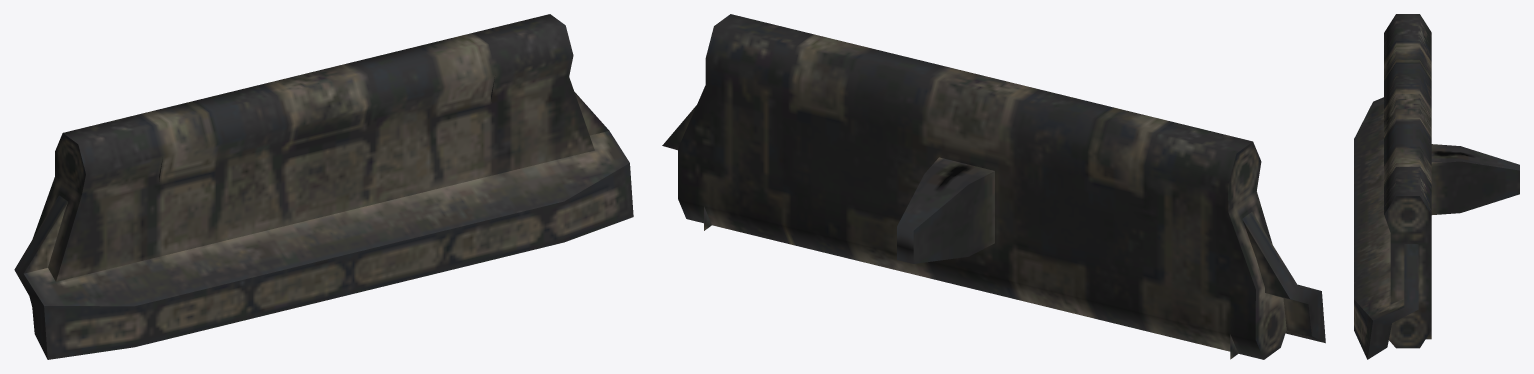
The picture shows the model from 3 angles, left to right: view 1: azimuth 30°, elevation 25°; view 2: azimuth 150°, elevation 25°; view 3: azimuth 270°, elevation 25°; orthographic projection. The views are drawn at different scales.
Parts seen in each view (by area): view 1: set_0_group_0; view 2: set_0_group_0; view 3: set_0_group_0.
Part boxes in pixels (bbox=[...]): set_0_group_0: bbox=[14, 14, 633, 359]; set_0_group_0: bbox=[662, 14, 1325, 359]; set_0_group_0: bbox=[1354, 14, 1519, 359].
Bounding box in the file's own units: 0.5 × 0.1549 × 0.16.
Materials: 1 (1 with a texture image).
